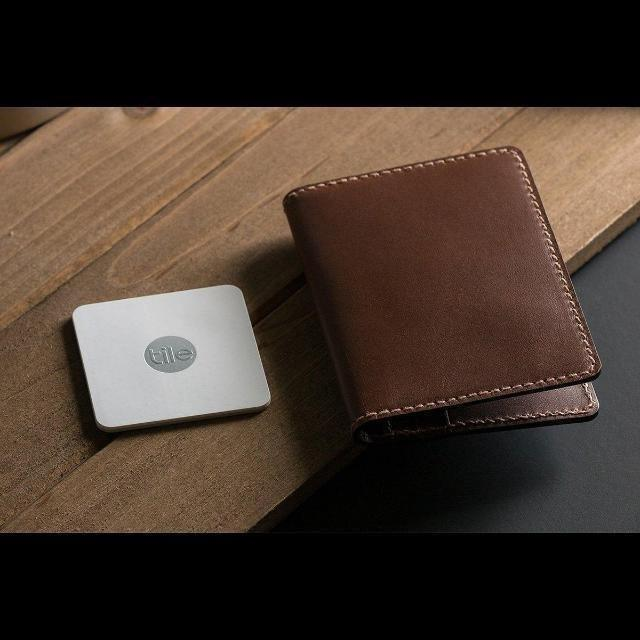Wallet: (286, 144, 602, 440)
